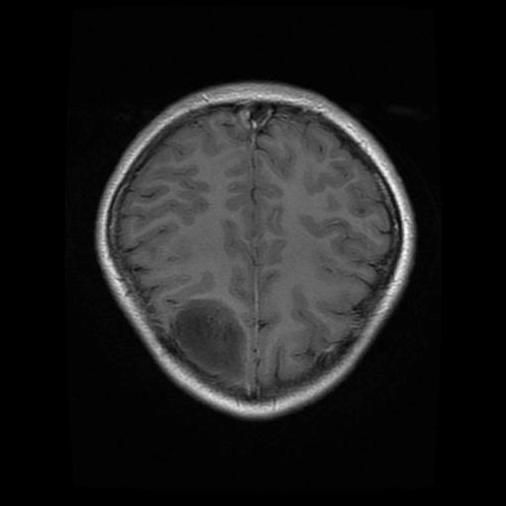Tumour-Glioma: (177, 299, 252, 375)
